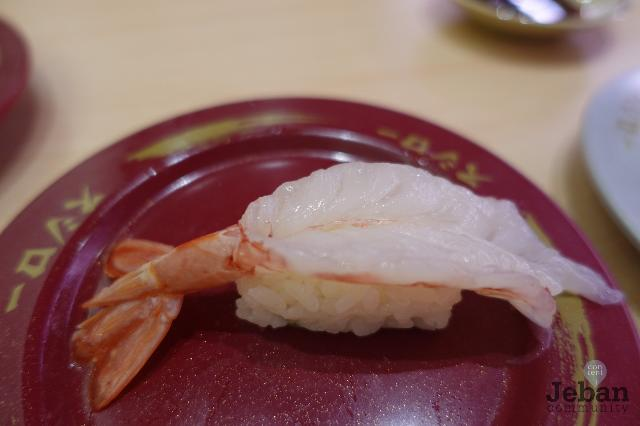jangold: (471, 0, 599, 37)
janred: (19, 95, 616, 426), (0, 32, 36, 118)
janwhite: (586, 40, 640, 218)
